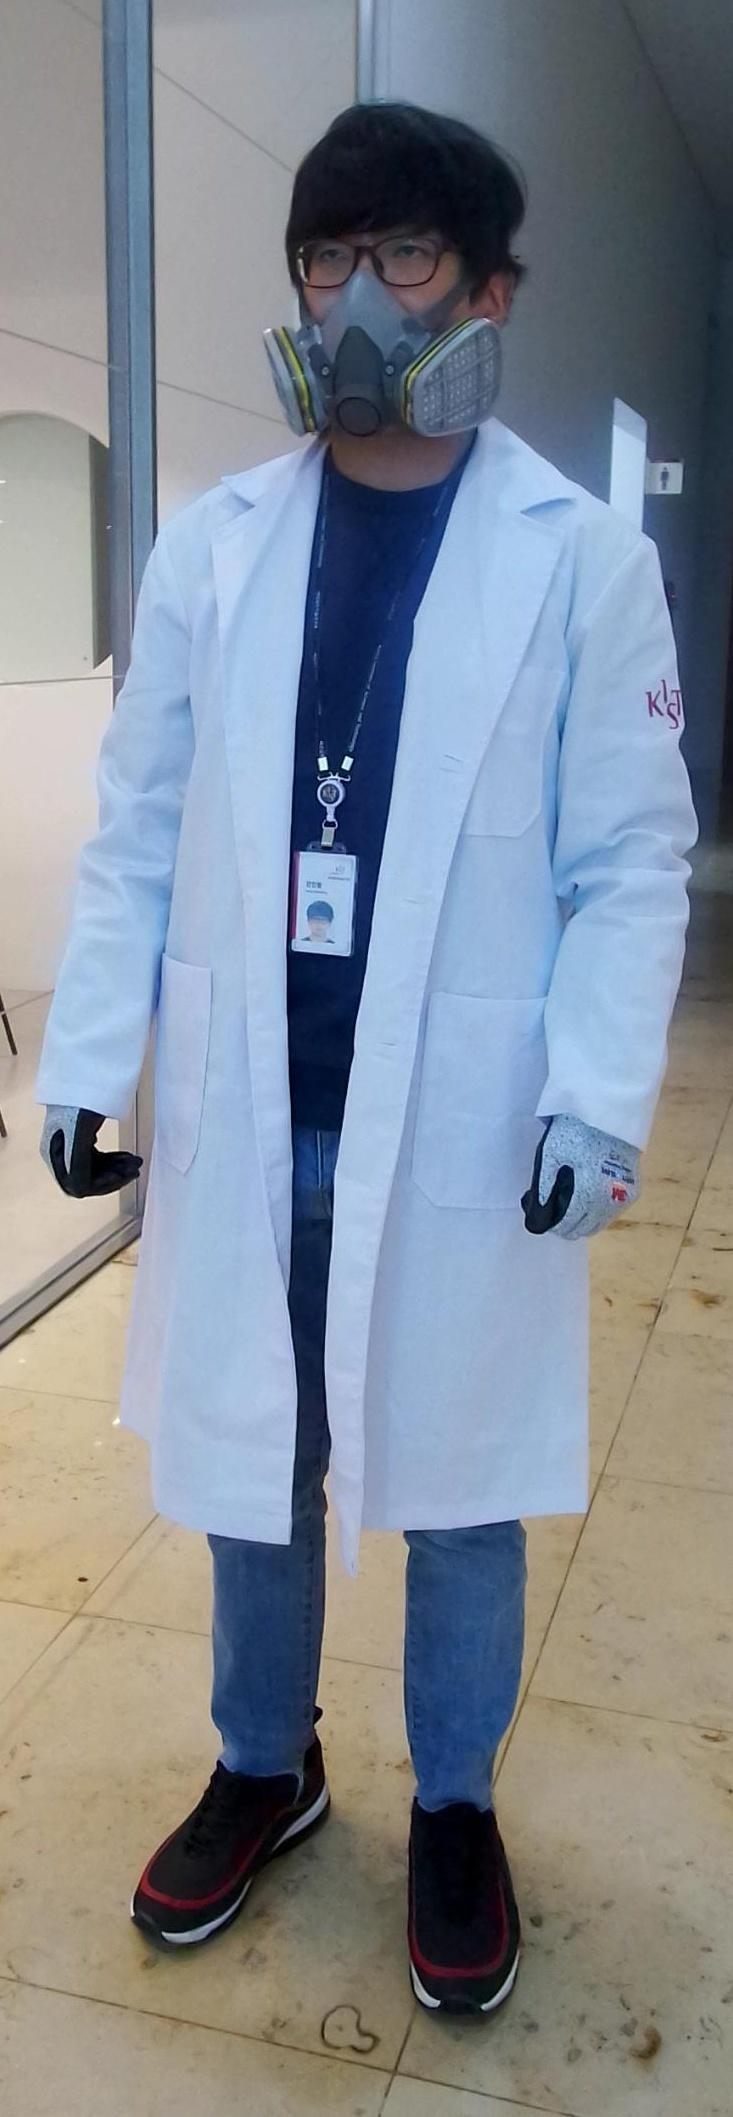lab_coat: (116, 491, 551, 1512)
